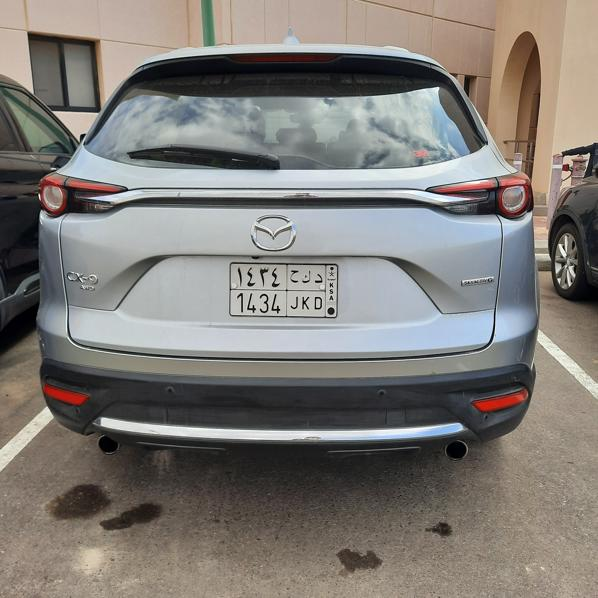numberplate: (230, 262, 338, 317)
